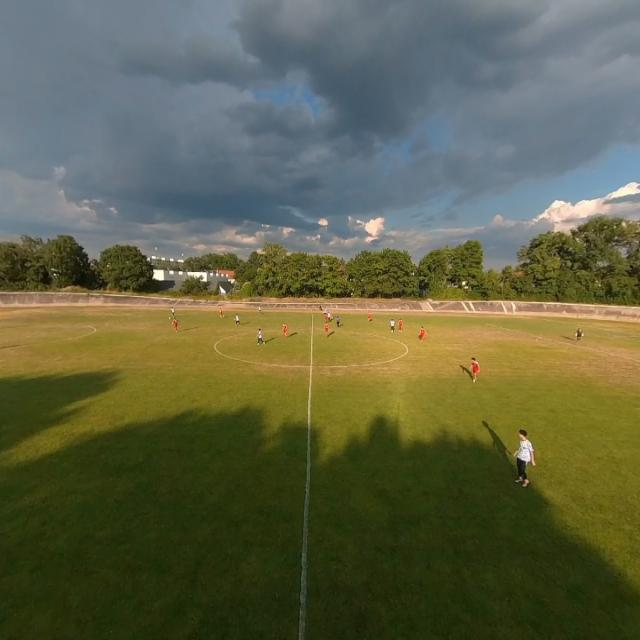ball: (168, 316, 170, 320)
